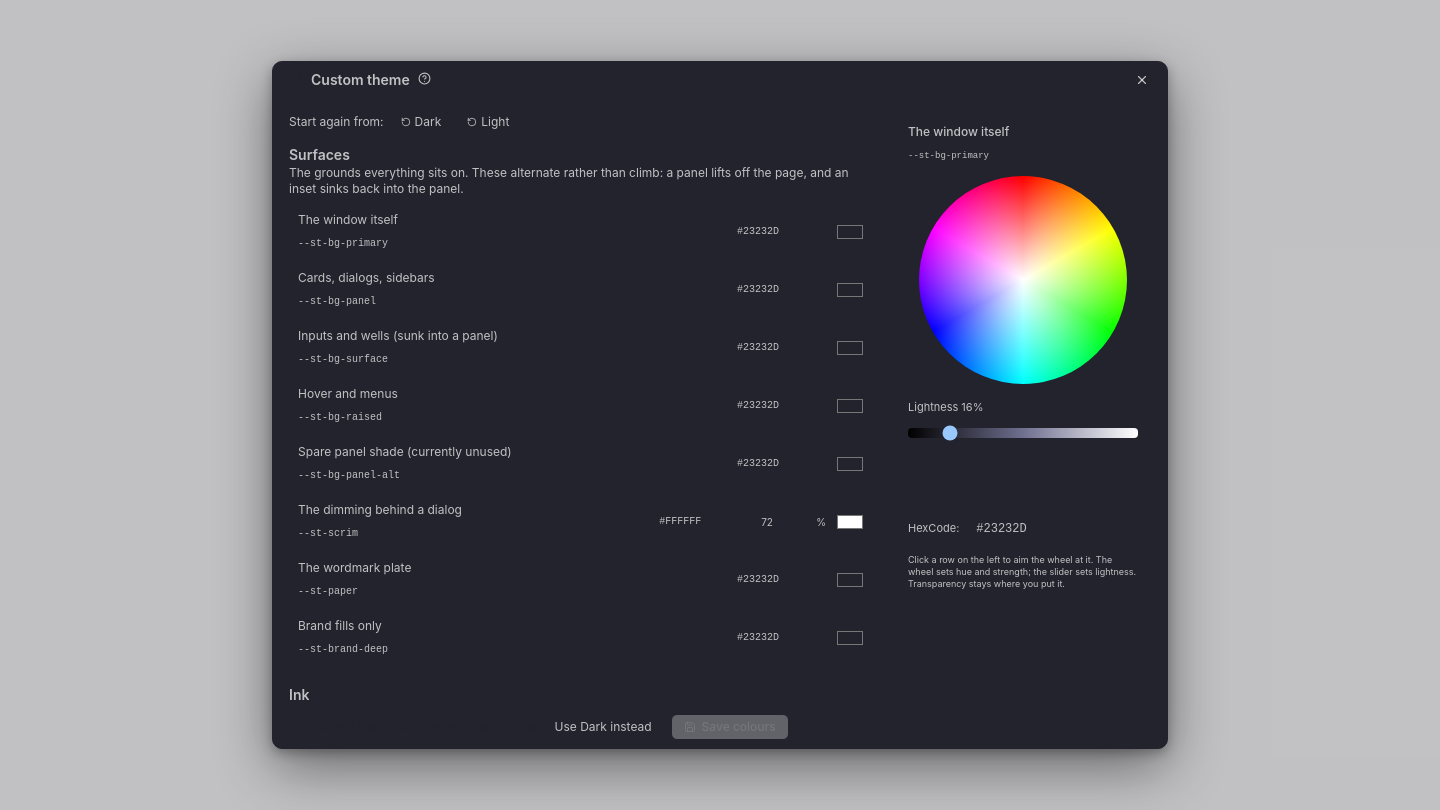
the wheel › aims at whichever row is selected
Expected: the text with test id "selected-token" reads "--st-bg-primary", [908,151,989,161]
Click the text "Hover and menus" at point(348, 393), box [298,386,398,401]
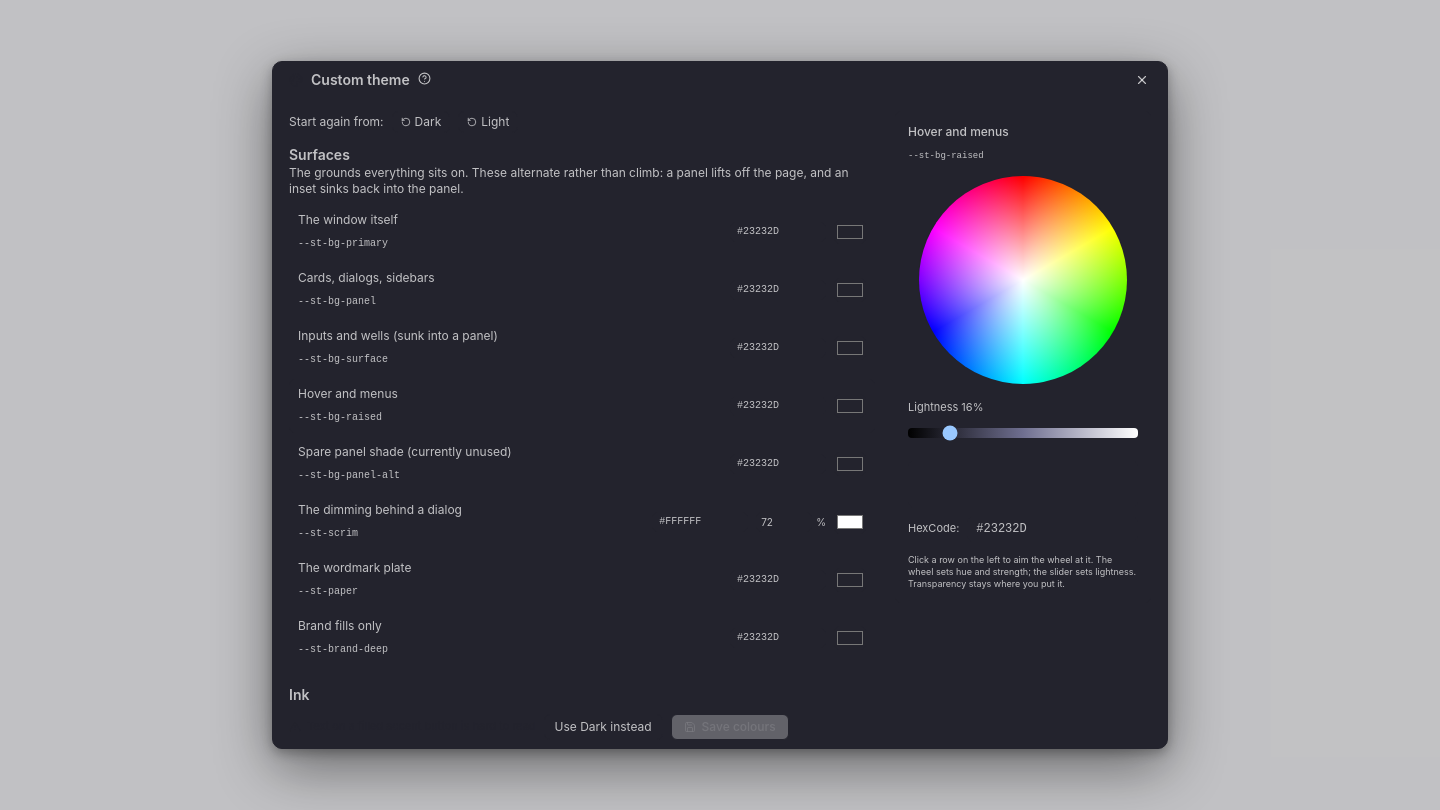
Expected: the text with test id "selected-token" reads "--st-bg-raised", [908,151,984,161]
Expected: the text with test id "selected-label" reads "Hover and menus", [908,124,1009,139]
